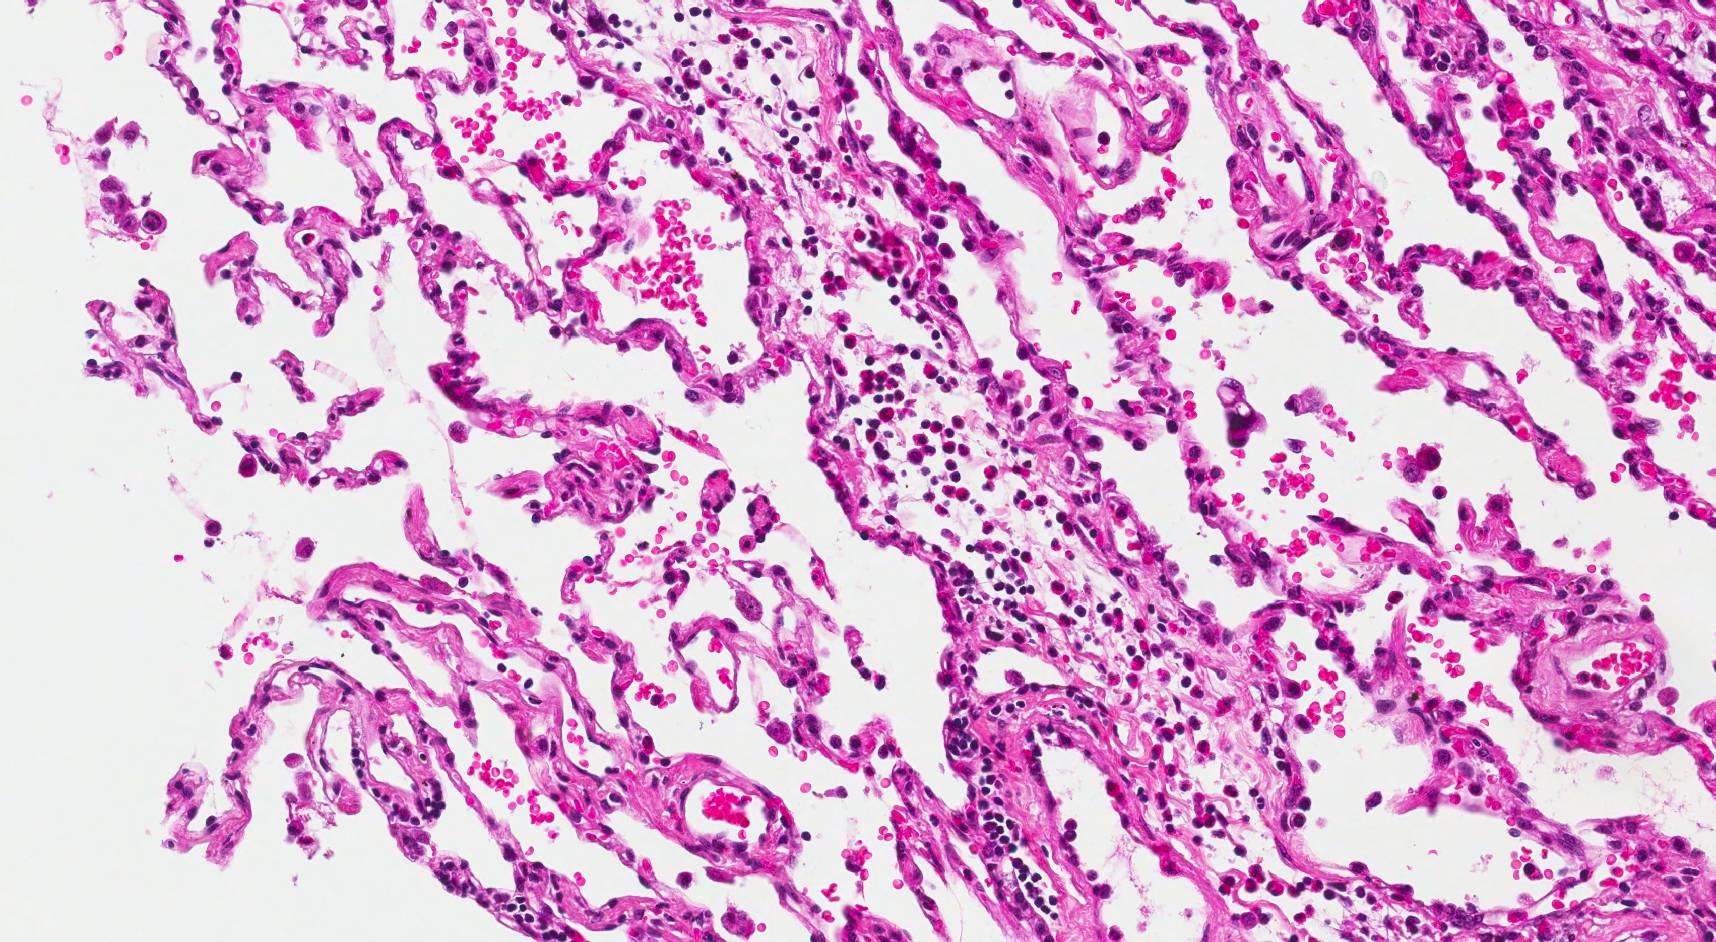stas: (1213, 378, 1271, 448)
